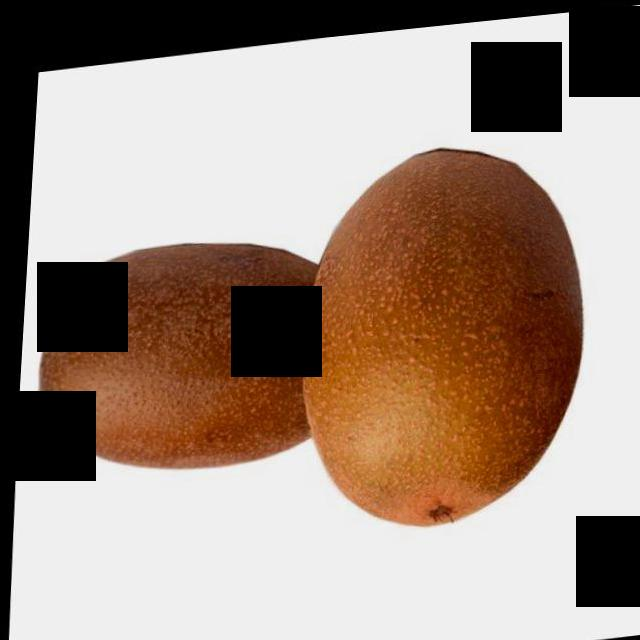kiwi: (287, 124, 600, 542), (23, 215, 320, 480)
